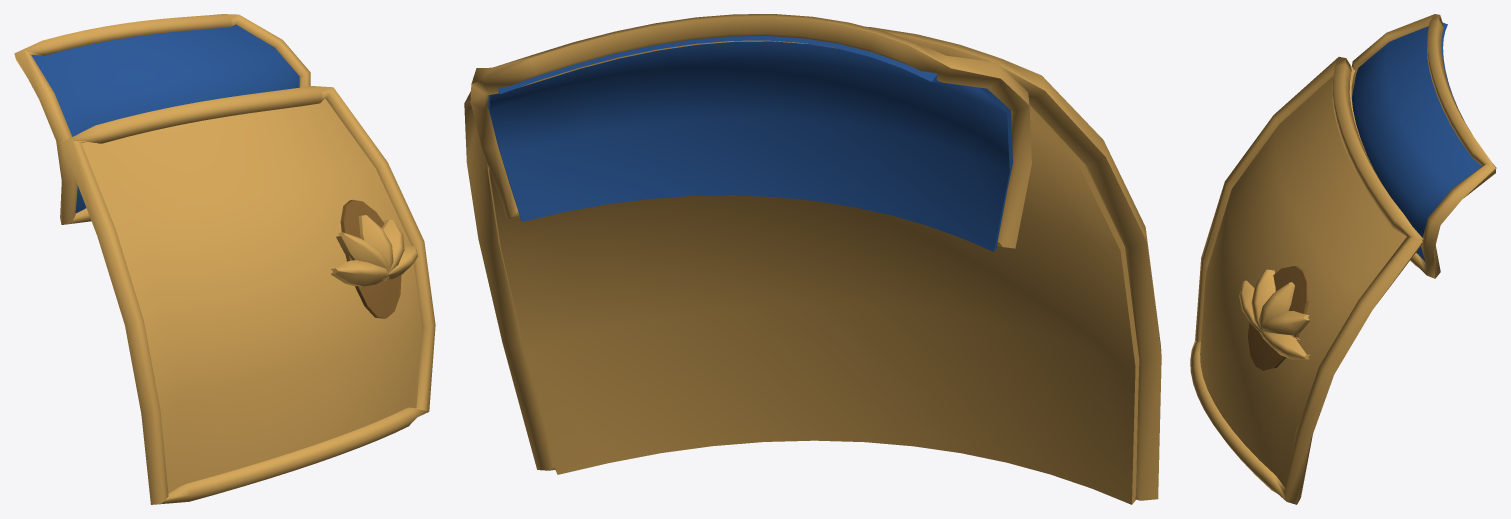
File: shoulder-armour-far.glb
3 renders of one model, left to right at view 1: azimuth 30°, elevation 25°; view 2: azimuth 150°, elevation 25°; view 3: azimuth 270°, elevation 25°, orthographic. The views are drawn at different scales.
Visible parts, largest first — view 1: OriginalLeftShoulderArmour; view 2: OriginalLeftShoulderArmour; view 3: OriginalLeftShoulderArmour.
Part boxes in pixels (x1=…): OriginalLeftShoulderArmour: x1=14, y1=14, x2=435, y2=504; OriginalLeftShoulderArmour: x1=464, y1=14, x2=1161, y2=504; OriginalLeftShoulderArmour: x1=1190, y1=14, x2=1496, y2=504.
Size of the model in its own units: 0.1059 by 0.1121 by 0.0884.
